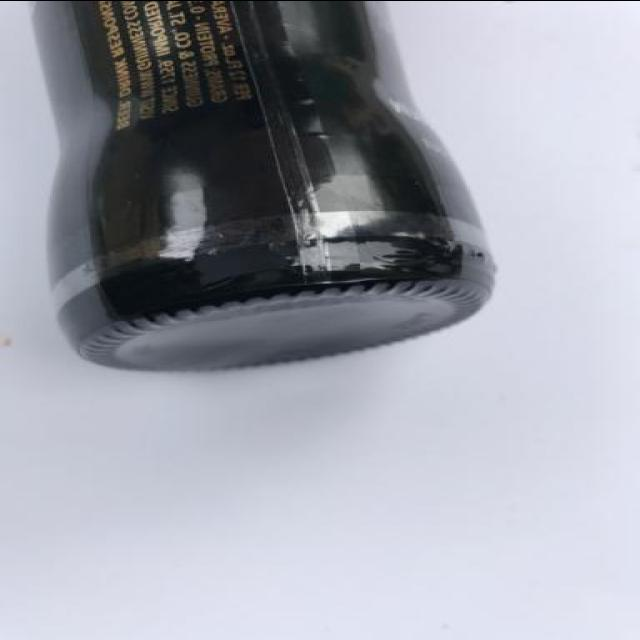glass: (12, 0, 516, 390)
